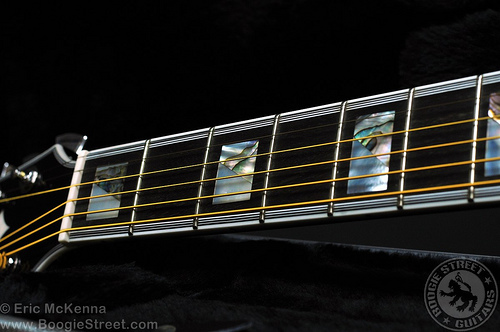guitar: (1, 68, 500, 299)
